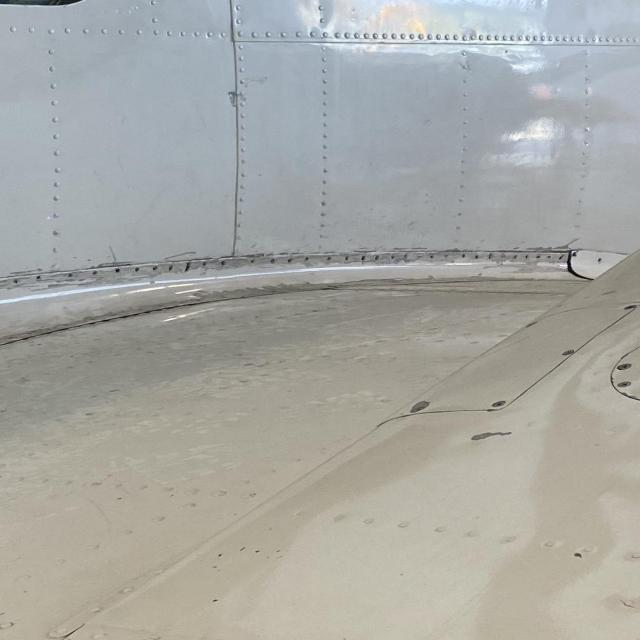Paint-off: (469, 431, 511, 443), (223, 86, 239, 110), (410, 400, 430, 415)
Scratch: (157, 245, 208, 260), (1, 263, 47, 279), (98, 240, 127, 265)
